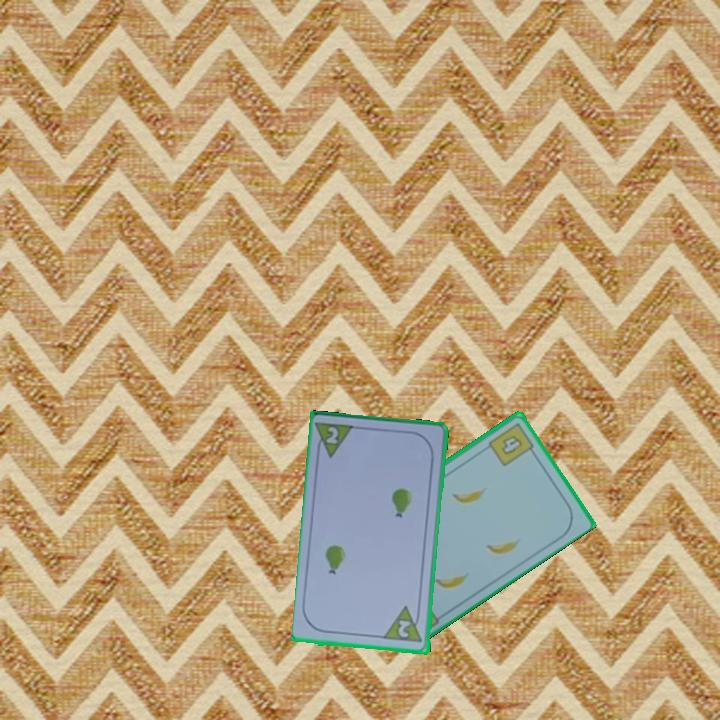2p: (382, 603, 426, 646), (323, 423, 341, 447)
4b: (484, 419, 539, 469)
